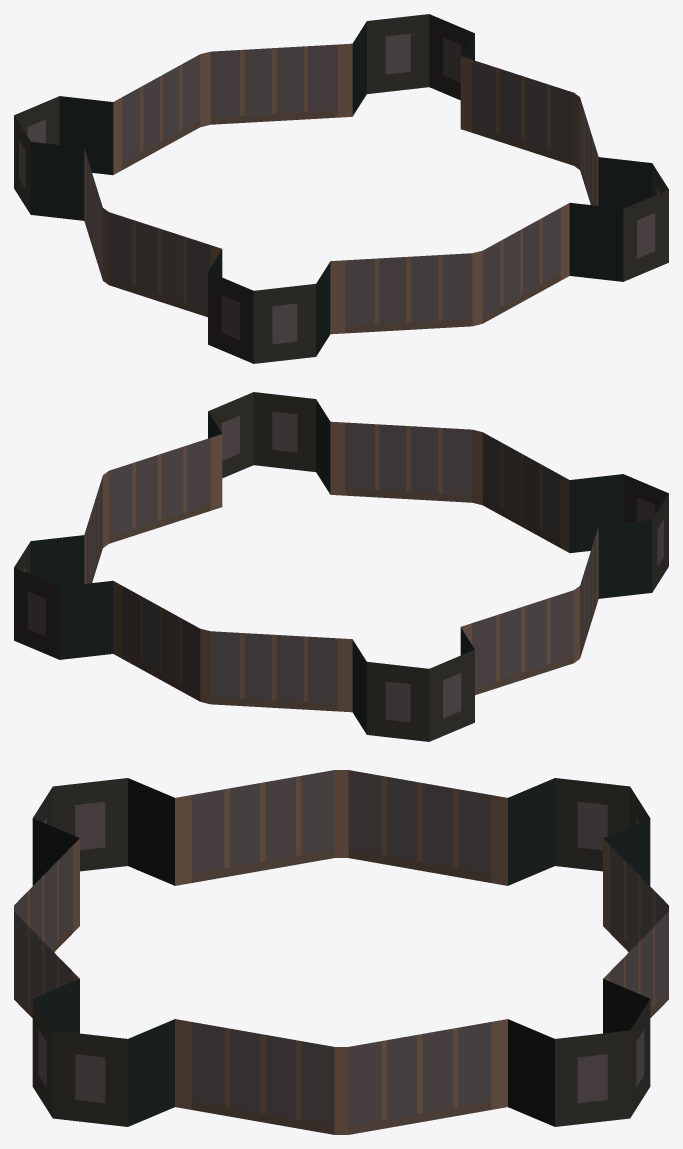
File: TB_CITY_Skysc_L_BodyA_Brown.FBX
The picture shows the model from 3 angles, top to bottom: view 1: azimuth 30°, elevation 25°; view 2: azimuth 150°, elevation 25°; view 3: azimuth 270°, elevation 25°; orthographic projection. The views are drawn at different scales.
Visible parts, largest first — view 1: TB_CITY_Skysc_L_BodyA_Brown; view 2: TB_CITY_Skysc_L_BodyA_Brown; view 3: TB_CITY_Skysc_L_BodyA_Brown.
Part boxes in pixels (left/top/right/bottom): TB_CITY_Skysc_L_BodyA_Brown: left=14, top=14, right=668, bottom=363; TB_CITY_Skysc_L_BodyA_Brown: left=14, top=392, right=668, bottom=741; TB_CITY_Skysc_L_BodyA_Brown: left=14, top=770, right=668, bottom=1134.
Size of the model in its own units: 33.69 by 5 by 33.69.
